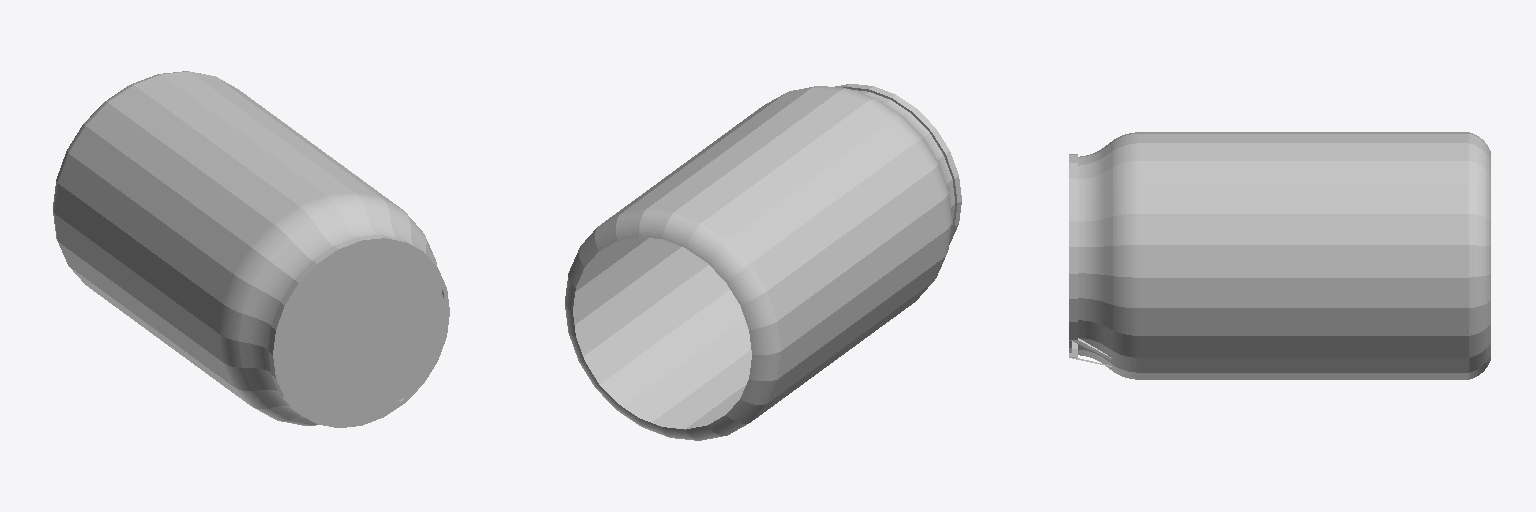
The model's file is orange_can.obj.
3 renders of one model, left to right at view 1: azimuth 30°, elevation 25°; view 2: azimuth 150°, elevation 25°; view 3: azimuth 270°, elevation 25°, orthographic.
Visible parts, largest first — view 1: cocacola_can; view 2: cocacola_can; view 3: cocacola_can.
Part boxes in pixels (bbox=[...]): cocacola_can: bbox=[53, 71, 449, 427]; cocacola_can: bbox=[565, 84, 961, 440]; cocacola_can: bbox=[1069, 132, 1490, 379].
Size of the model in its own units: 0.0676 by 0.0676 by 0.1149.